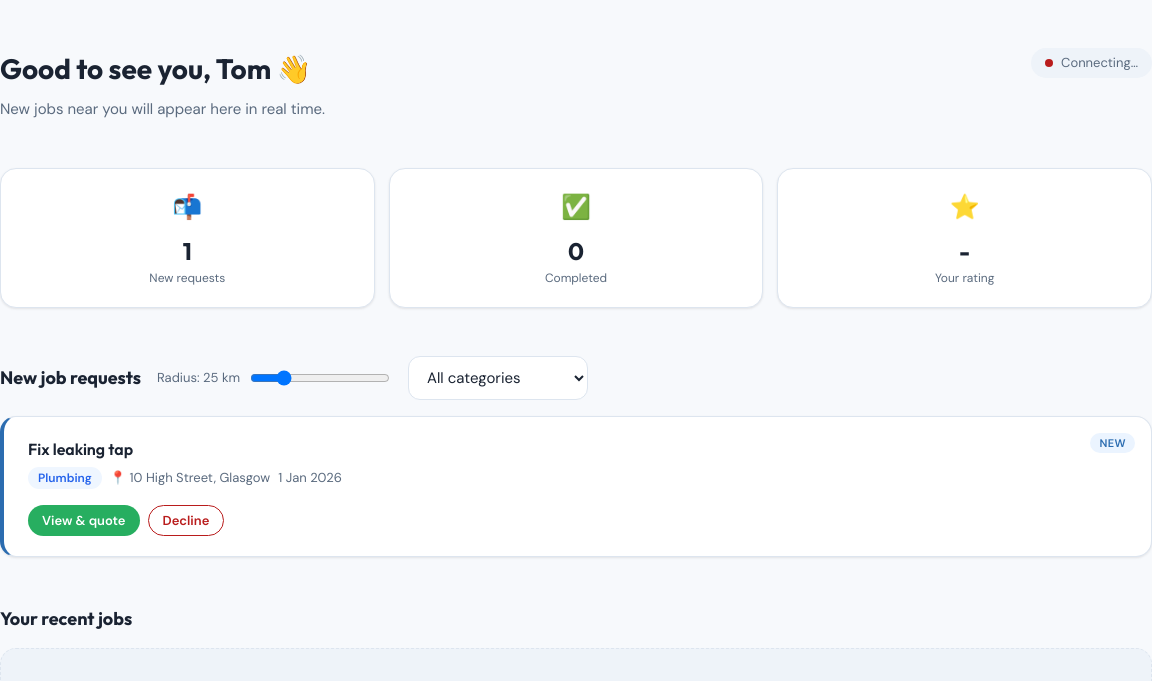
Test: TradespersonDashboard page › declining a job posts the decline and removes it from the nearby list
Expected: the text "Fix leaking tap" is shown, [28, 438, 133, 458]
Click the button "Decline": [186, 520] box [148, 504, 224, 536]
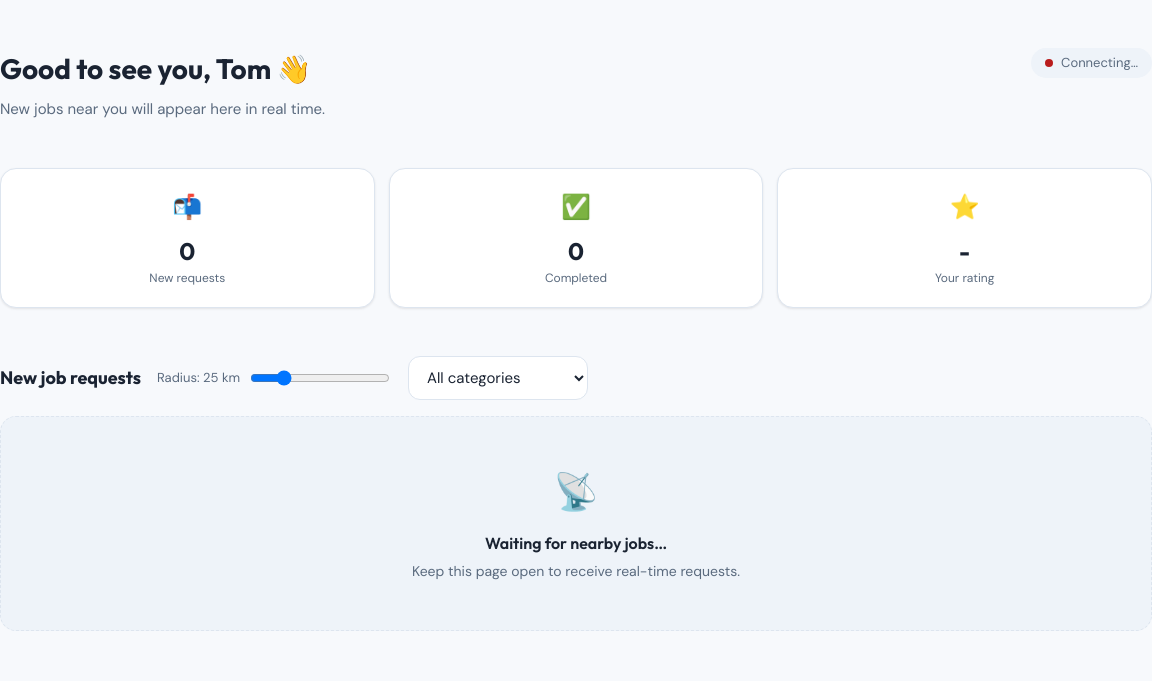
Expected: the text "Fix leaking tap" is gone
